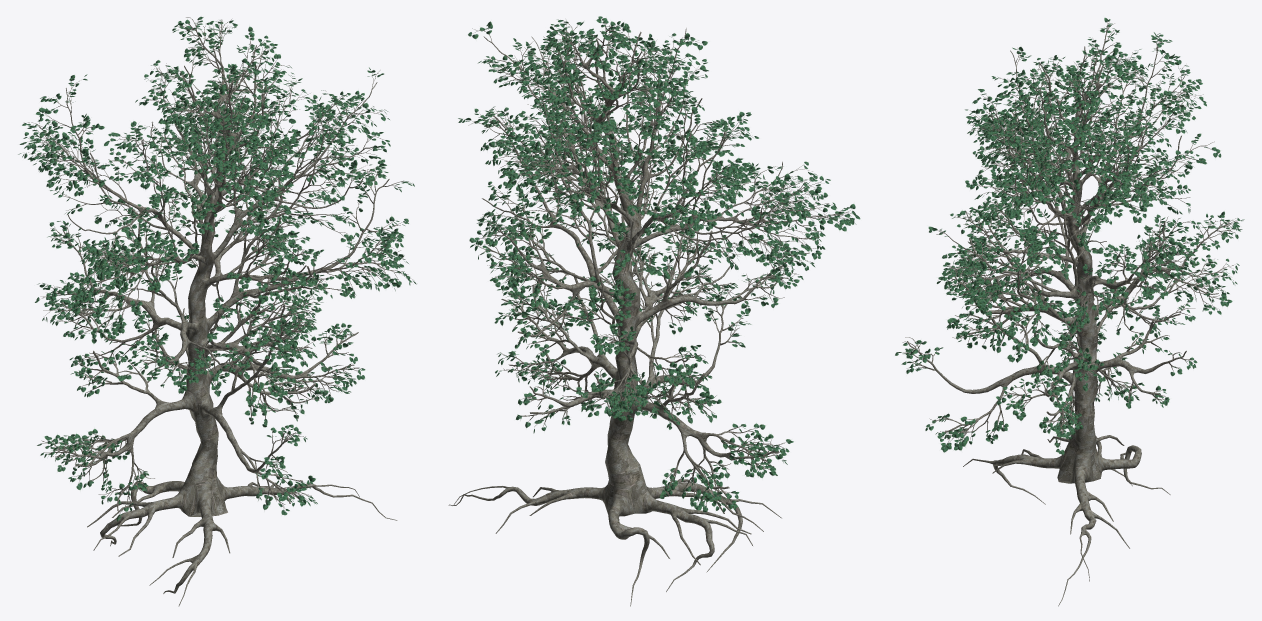
File: bodhi.glb
3 views of the same model, side by side, from view 1: azimuth 30°, elevation 25°; view 2: azimuth 150°, elevation 25°; view 3: azimuth 270°, elevation 25° (orthographic). The views are drawn at different scales.
Parts seen in each view (by area): view 1: Bodhi Tree_Bodhi_front_2_Mat_0, Bodhi Tree_Bark_Mat_0; view 2: Bodhi Tree_Bodhi_front_2_Mat_0, Bodhi Tree_Bark_Mat_0; view 3: Bodhi Tree_Bodhi_front_2_Mat_0, Bodhi Tree_Bark_Mat_0.
Boxes of the visible parts, x1,y1,x2,y2 form: Bodhi Tree_Bodhi_front_2_Mat_0: [18, 16, 416, 521]; Bodhi Tree_Bark_Mat_0: [24, 17, 412, 606]; Bodhi Tree_Bodhi_front_2_Mat_0: [458, 16, 860, 512]; Bodhi Tree_Bark_Mat_0: [448, 19, 853, 606]; Bodhi Tree_Bodhi_front_2_Mat_0: [895, 17, 1244, 454]; Bodhi Tree_Bark_Mat_0: [900, 21, 1237, 606].
Size of the model in its own units: 29.33 by 41.19 by 25.9.
Materials: 2 (2 with a texture image).
